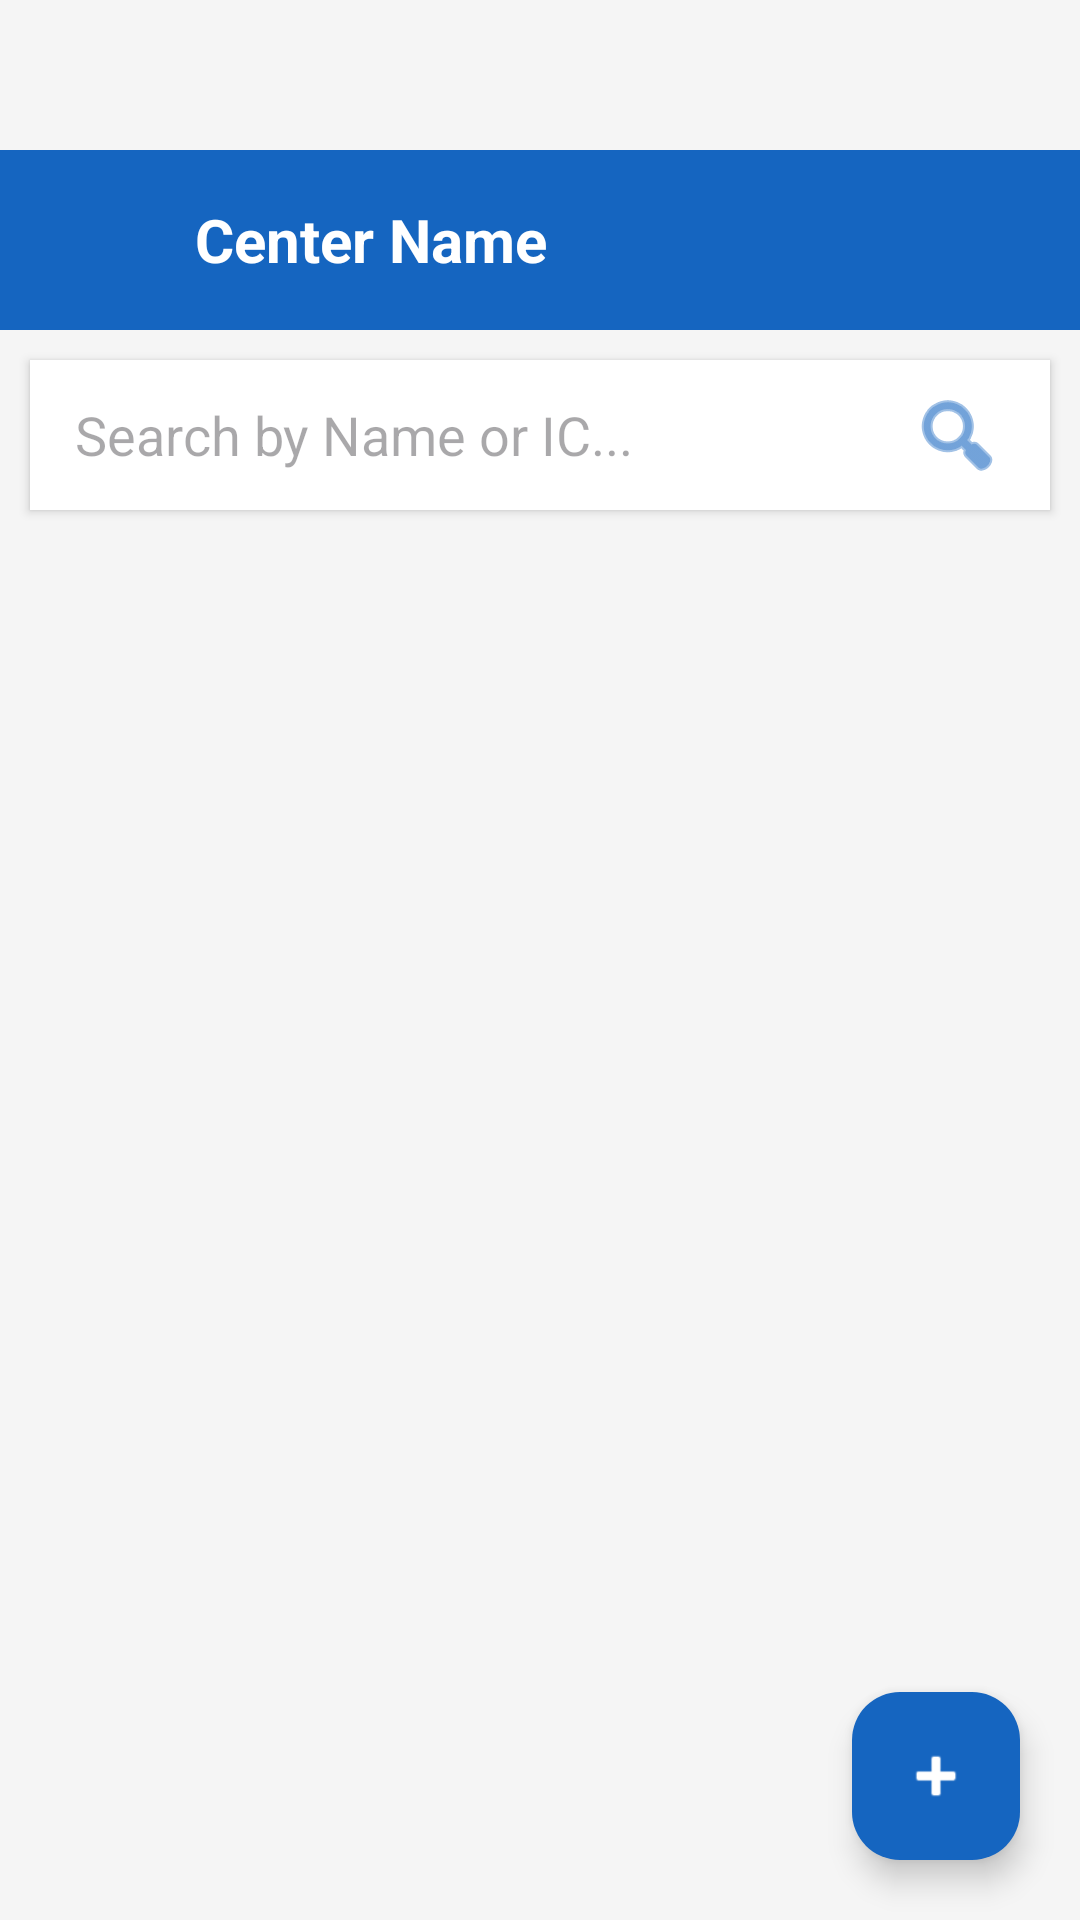

Named icons in this screenshot (1080×1920) and their centers, (x=x, y=y):
add: (x=936, y=1776)
